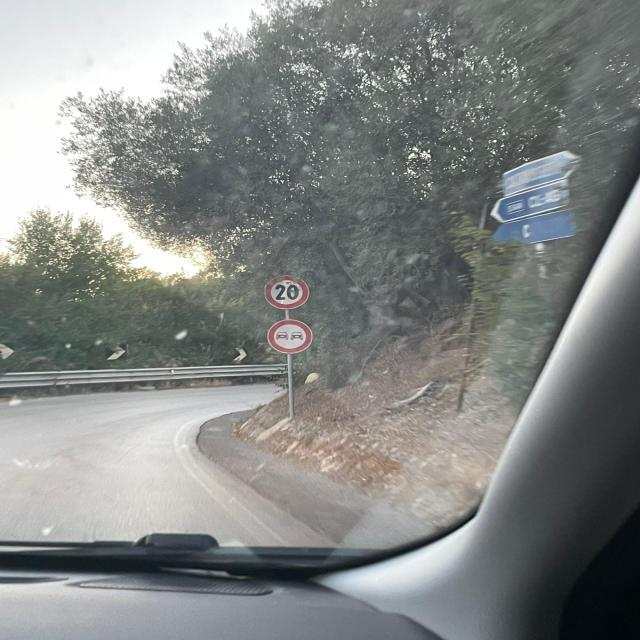forb_overtake: (267, 315, 317, 357)
forb_speed_over_20: (264, 273, 312, 310)
